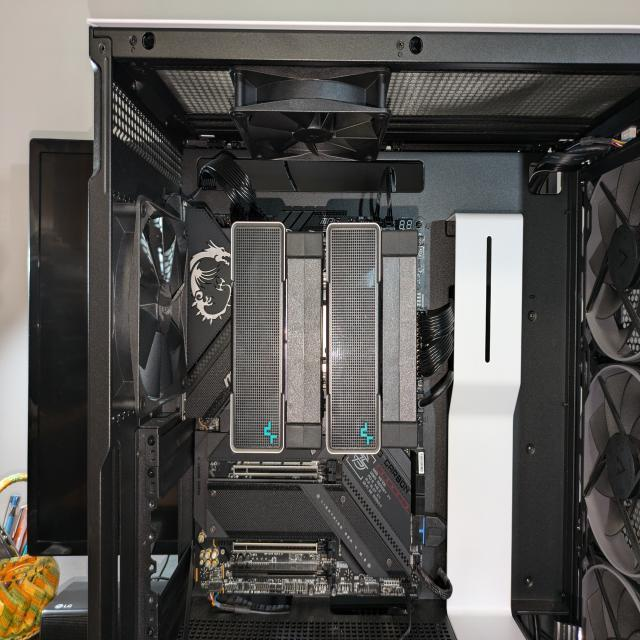CPU_Fan: (230, 220, 420, 456)
Mainboard: (189, 215, 426, 599)
